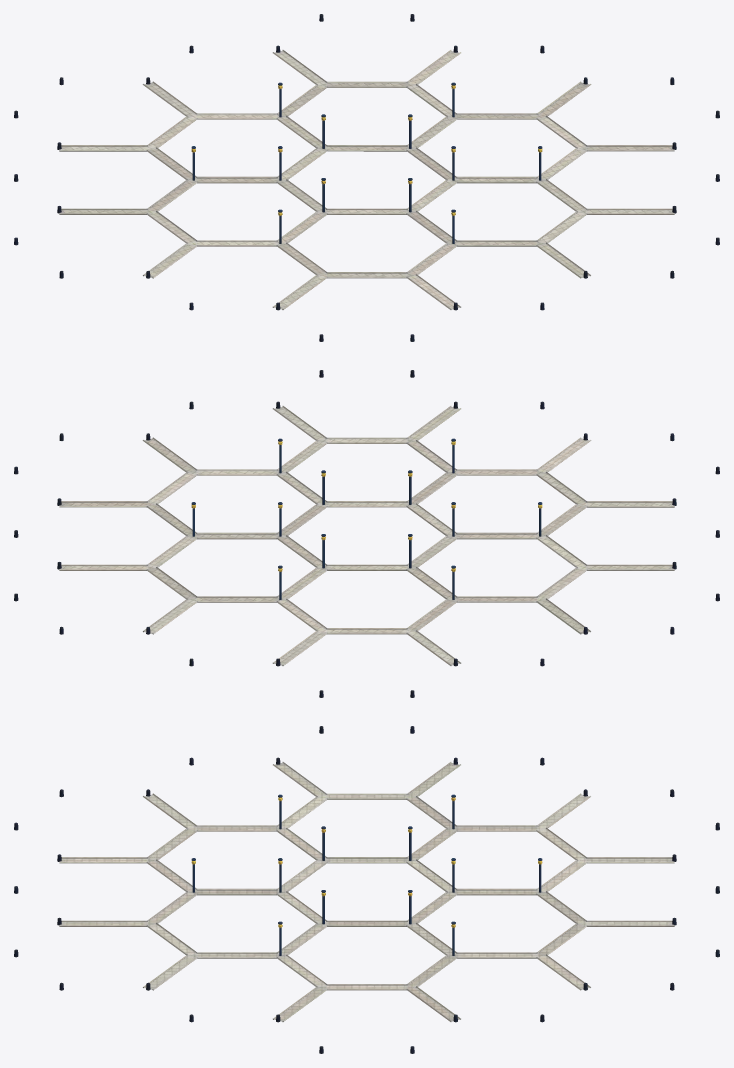
File: ground-20.glb
3 views of the same model, one above another, from view 1: azimuth 30°, elevation 25°; view 2: azimuth 150°, elevation 25°; view 3: azimuth 270°, elevation 25° (orthographic).
Parts seen in each view (by area): view 1: ground-20; view 2: ground-20; view 3: ground-20.
Part boxes in pixels (<box>): ground-20: <box>14,14,719,341</box>; ground-20: <box>14,370,719,697</box>; ground-20: <box>14,726,719,1053</box>.
Size of the model in its own units: 10.16 by 0.5001 by 9.41.
1 material, 1 textured.
